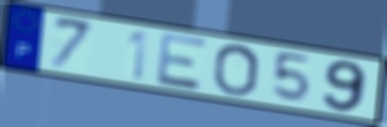1: (127, 30, 148, 81)
5: (271, 50, 312, 105)
7: (51, 14, 96, 73)
9: (321, 59, 370, 115)
E: (155, 31, 210, 93)
O: (210, 43, 262, 97)
